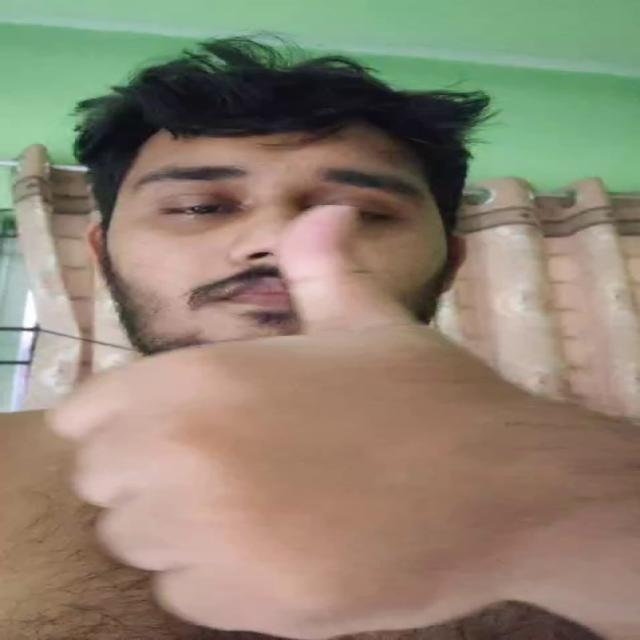Yes: (52, 203, 480, 640)
